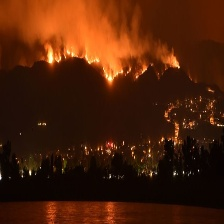fire: (42, 48, 183, 81)
smoke: (12, 3, 174, 57)
